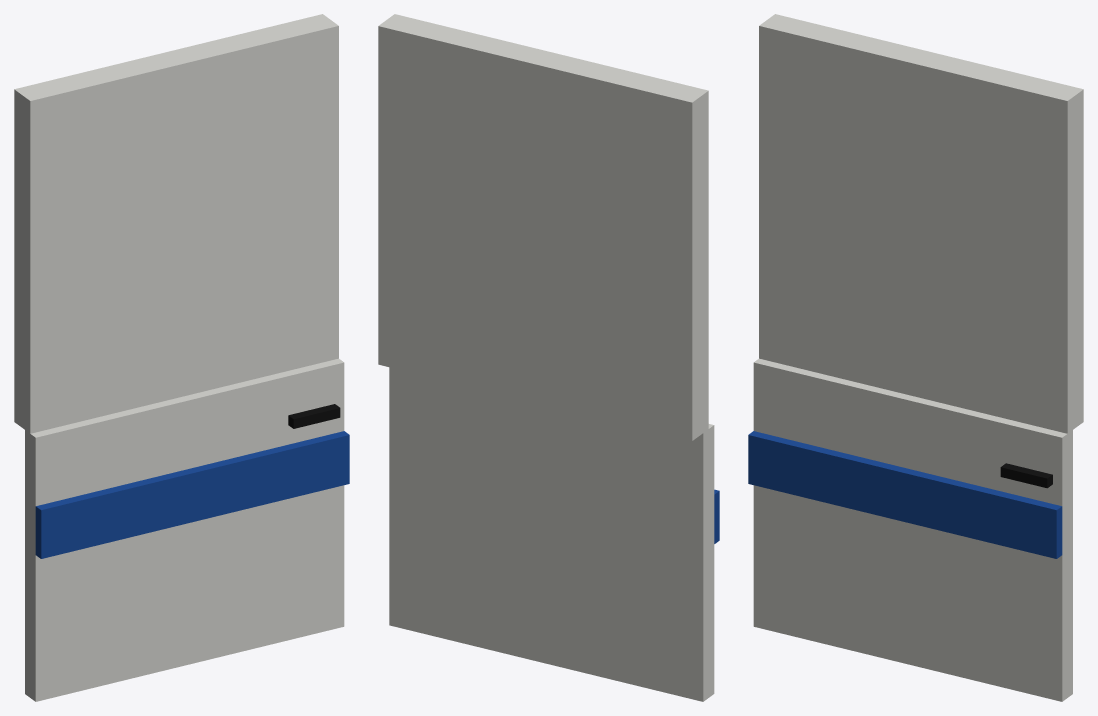
The model's file is prisoner_van_side_door.glb.
3 views of the same model, side by side, from view 1: azimuth 30°, elevation 25°; view 2: azimuth 150°, elevation 25°; view 3: azimuth 330°, elevation 25° (orthographic).
Visible parts, largest first — view 1: body:compound; view 2: body:compound; view 3: body:compound.
Part boxes in pixels (x1,y1,x2,y2): body:compound: (14, 14, 349, 701); body:compound: (378, 14, 719, 701); body:compound: (748, 14, 1083, 701).
Size of the model in its own units: 1.03 by 1.91 by 0.1562.
